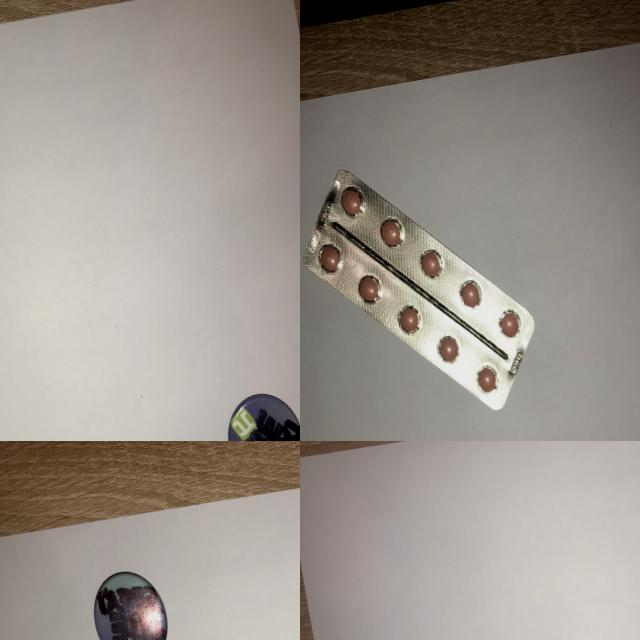icon: (81, 560, 179, 640), (212, 378, 300, 441)
tablets: (300, 130, 556, 441)
